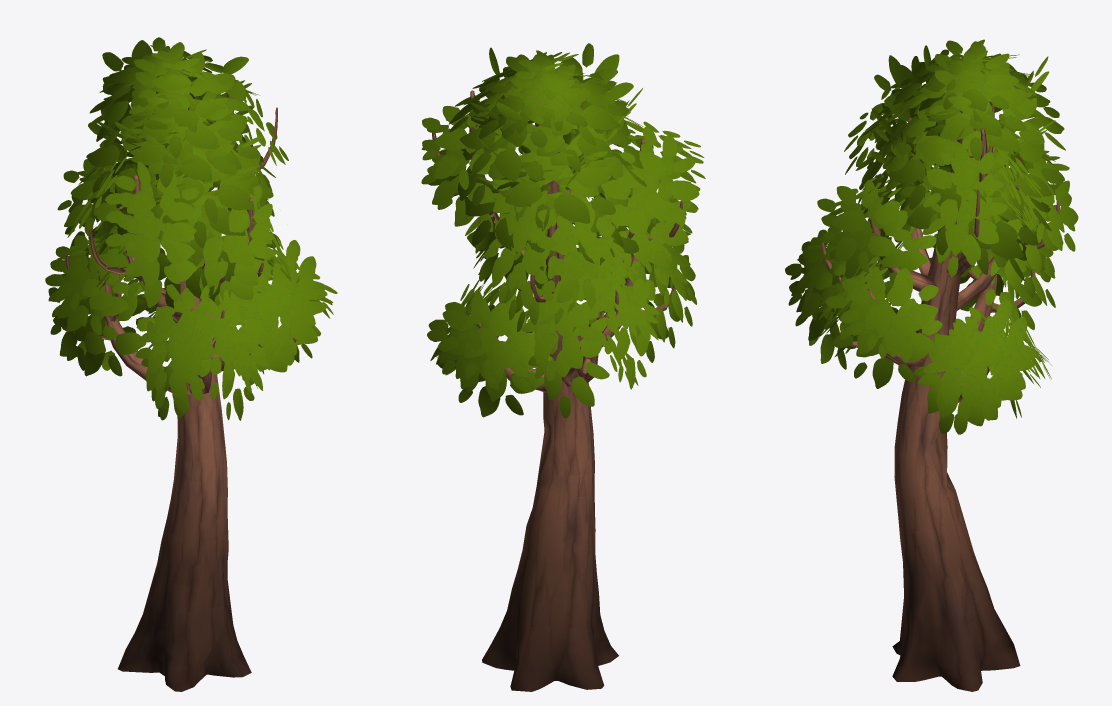
The model's file is feuillu-rond.lod1.glb.
The picture shows the model from 3 angles, left to right: view 1: azimuth 30°, elevation 25°; view 2: azimuth 150°, elevation 25°; view 3: azimuth 270°, elevation 25°; orthographic projection. The views are drawn at different scales.
Parts seen in each view (by area): view 1: CommonTree_1; view 2: CommonTree_1; view 3: CommonTree_1.
Part boxes in pixels (x1,y1,x2,y2): CommonTree_1: (45, 37, 337, 691); CommonTree_1: (421, 43, 705, 691); CommonTree_1: (785, 39, 1078, 691).
Size of the model in its own units: 3.18 by 7.12 by 3.51.
2 materials, 2 textured.
